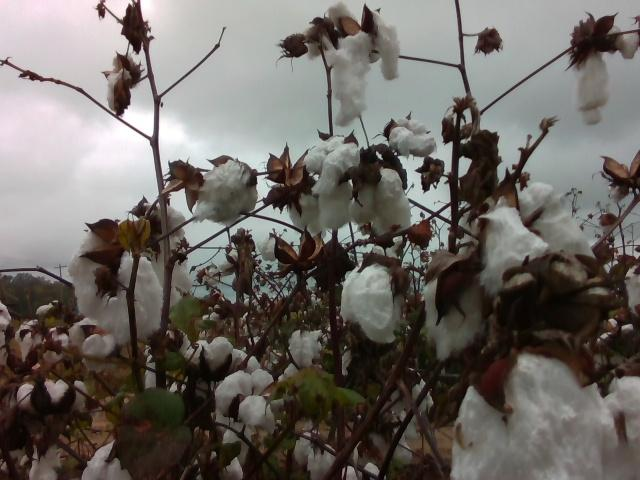cotton_ready: (425, 181, 596, 364), (456, 351, 640, 480), (308, 3, 399, 126), (574, 22, 640, 127), (143, 205, 197, 309), (339, 263, 405, 348), (305, 136, 362, 228), (108, 253, 163, 348), (348, 162, 412, 236), (214, 367, 283, 434), (69, 215, 110, 322), (192, 162, 256, 224), (351, 409, 413, 472), (388, 367, 436, 425), (278, 329, 326, 383), (102, 54, 142, 118), (15, 377, 89, 411), (189, 337, 259, 370), (15, 320, 68, 362), (293, 430, 337, 478), (82, 438, 132, 480), (388, 118, 440, 157), (69, 318, 117, 360), (288, 188, 325, 240), (202, 443, 243, 480), (28, 444, 62, 480), (0, 298, 12, 369), (257, 236, 280, 262)
